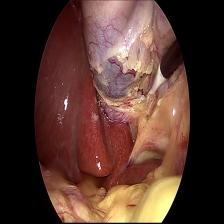Hook: (142, 60, 165, 108)
